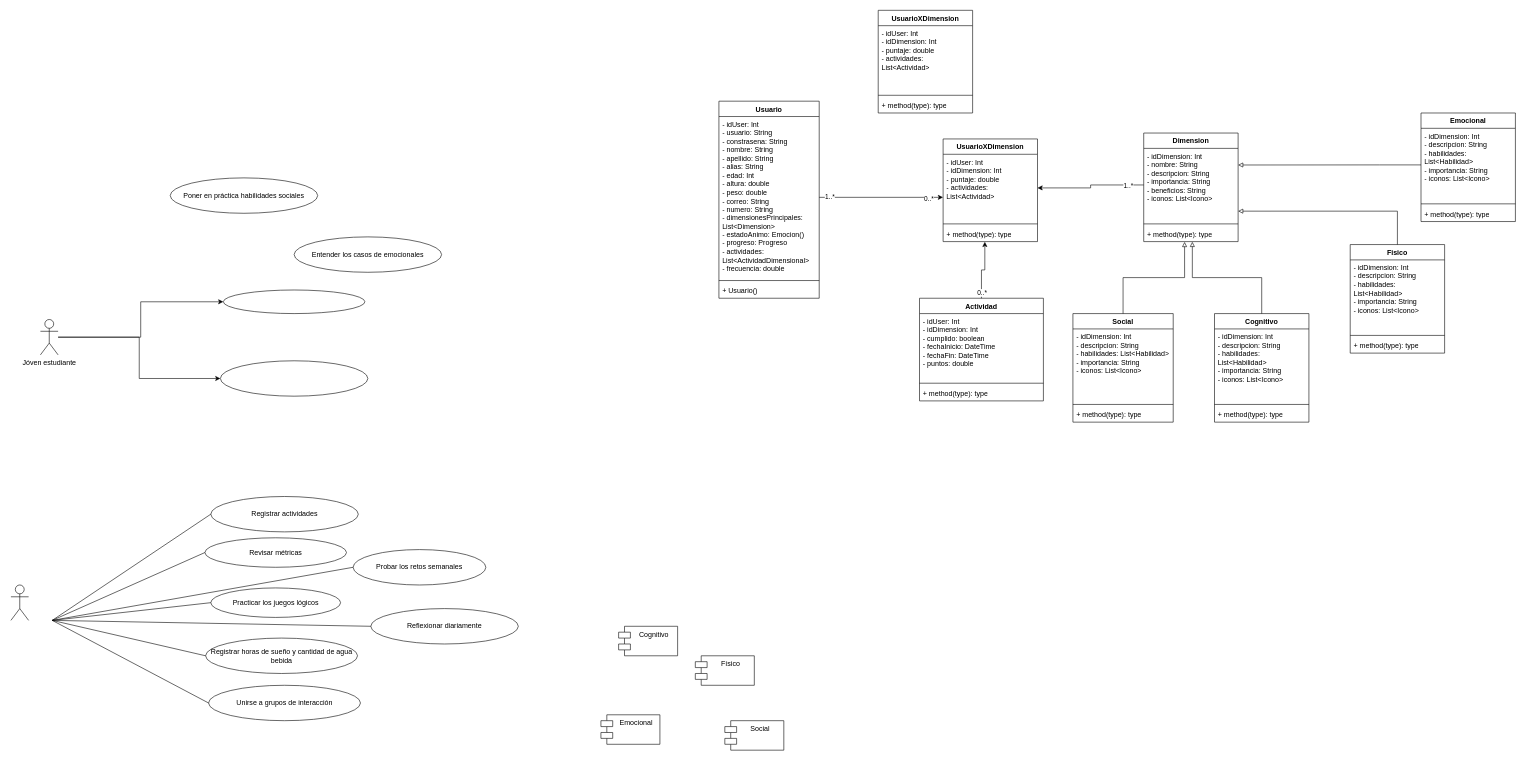
The diagram is 1526 pixels wide and 761 high, and some of its shapes have lost their labels. Here are the shapes that lost their labels. From the top down, the centre of each, then its label:
the point at 294,301: Organizar actividades por dimensión
the point at 294,378: Recibir asesoramiento de prácticas saludables para el desarrollo integral
the point at 19,602: Jóven
